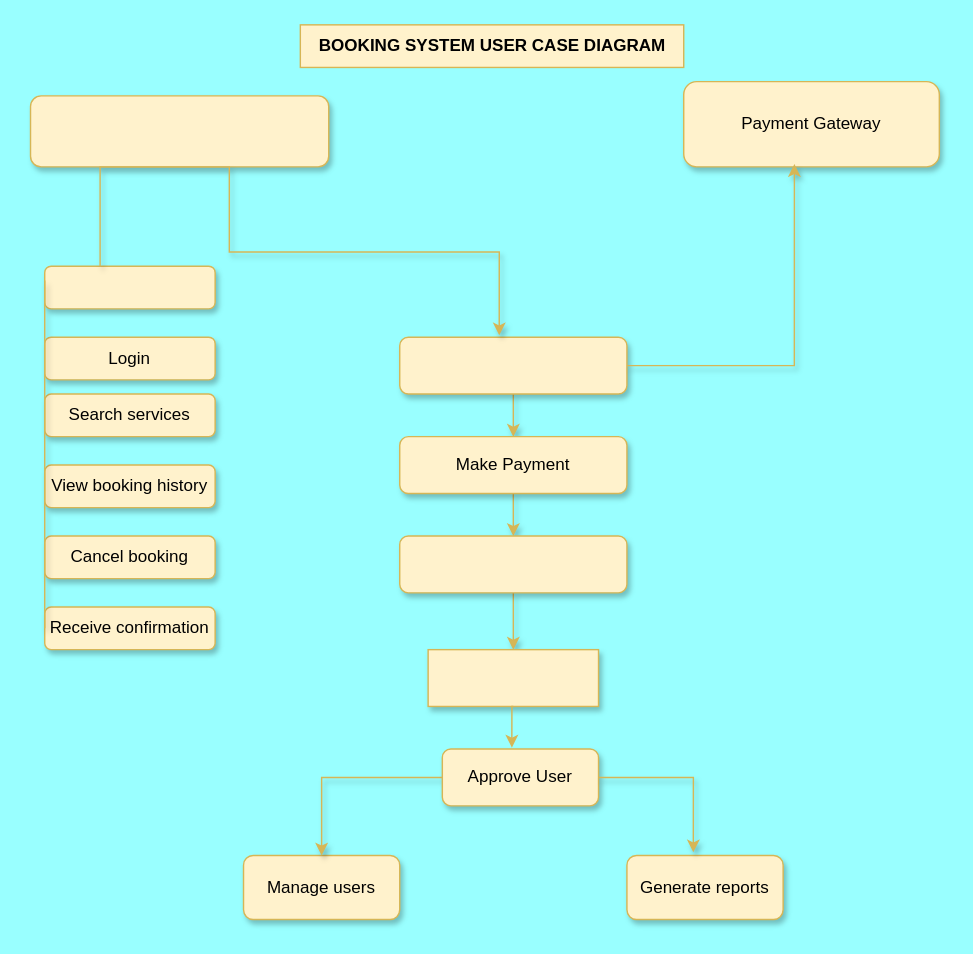
The diagram is 973 pixels wide and 954 high, and some of its shapes have lost their labels. The centre of each missing label's shape, as x and y in pixels:
ADMIN: point 514,679
Make booking: point 514,367
Payment Status: point 514,566
Register Account: point 131,289
USER: point 180,133
